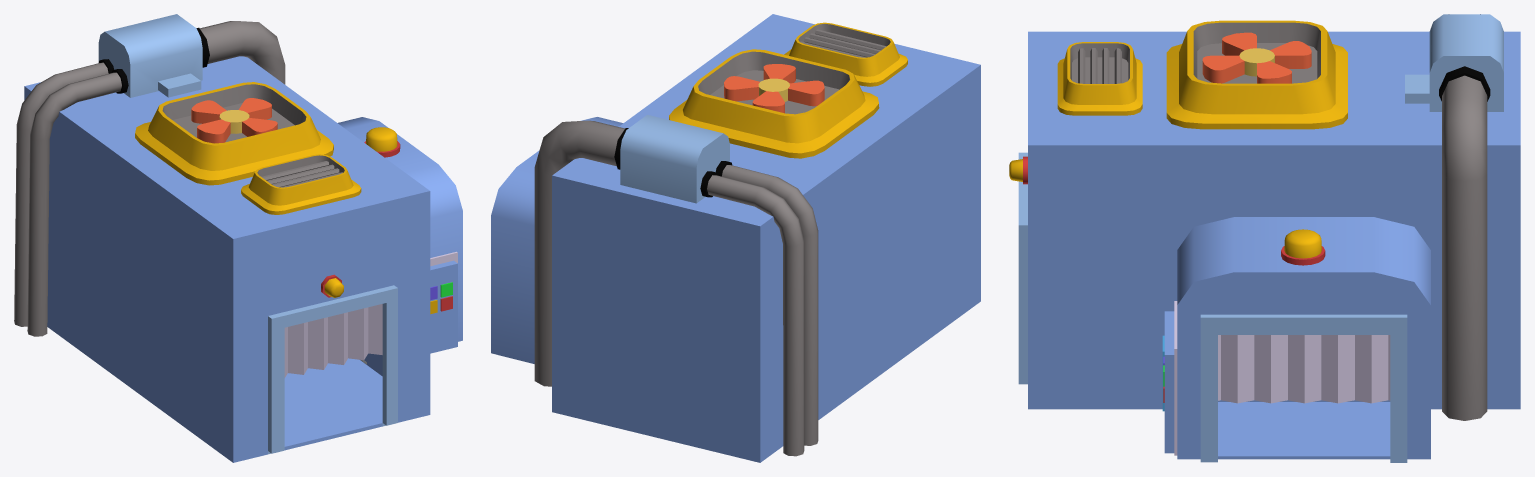
The model's file is factory.fbx.
3 renders of one model, left to right at view 1: azimuth 30°, elevation 25°; view 2: azimuth 150°, elevation 25°; view 3: azimuth 270°, elevation 25°, orthographic. The views are drawn at different scales.
Parts seen in each view (by area): view 1: factory, fan; view 2: factory, fan; view 3: factory, fan.
Part boxes in pixels (x1=…): factory: x1=14, y1=14, x2=462, y2=462; fan: x1=191, y1=98, x2=277, y2=143; factory: x1=491, y1=14, x2=980, y2=462; fan: x1=724, y1=64, x2=824, y2=113; factory: x1=1009, y1=14, x2=1520, y2=462; fan: x1=1202, y1=32, x2=1311, y2=83.
Size of the model in its own units: 616 by 493 by 713.
